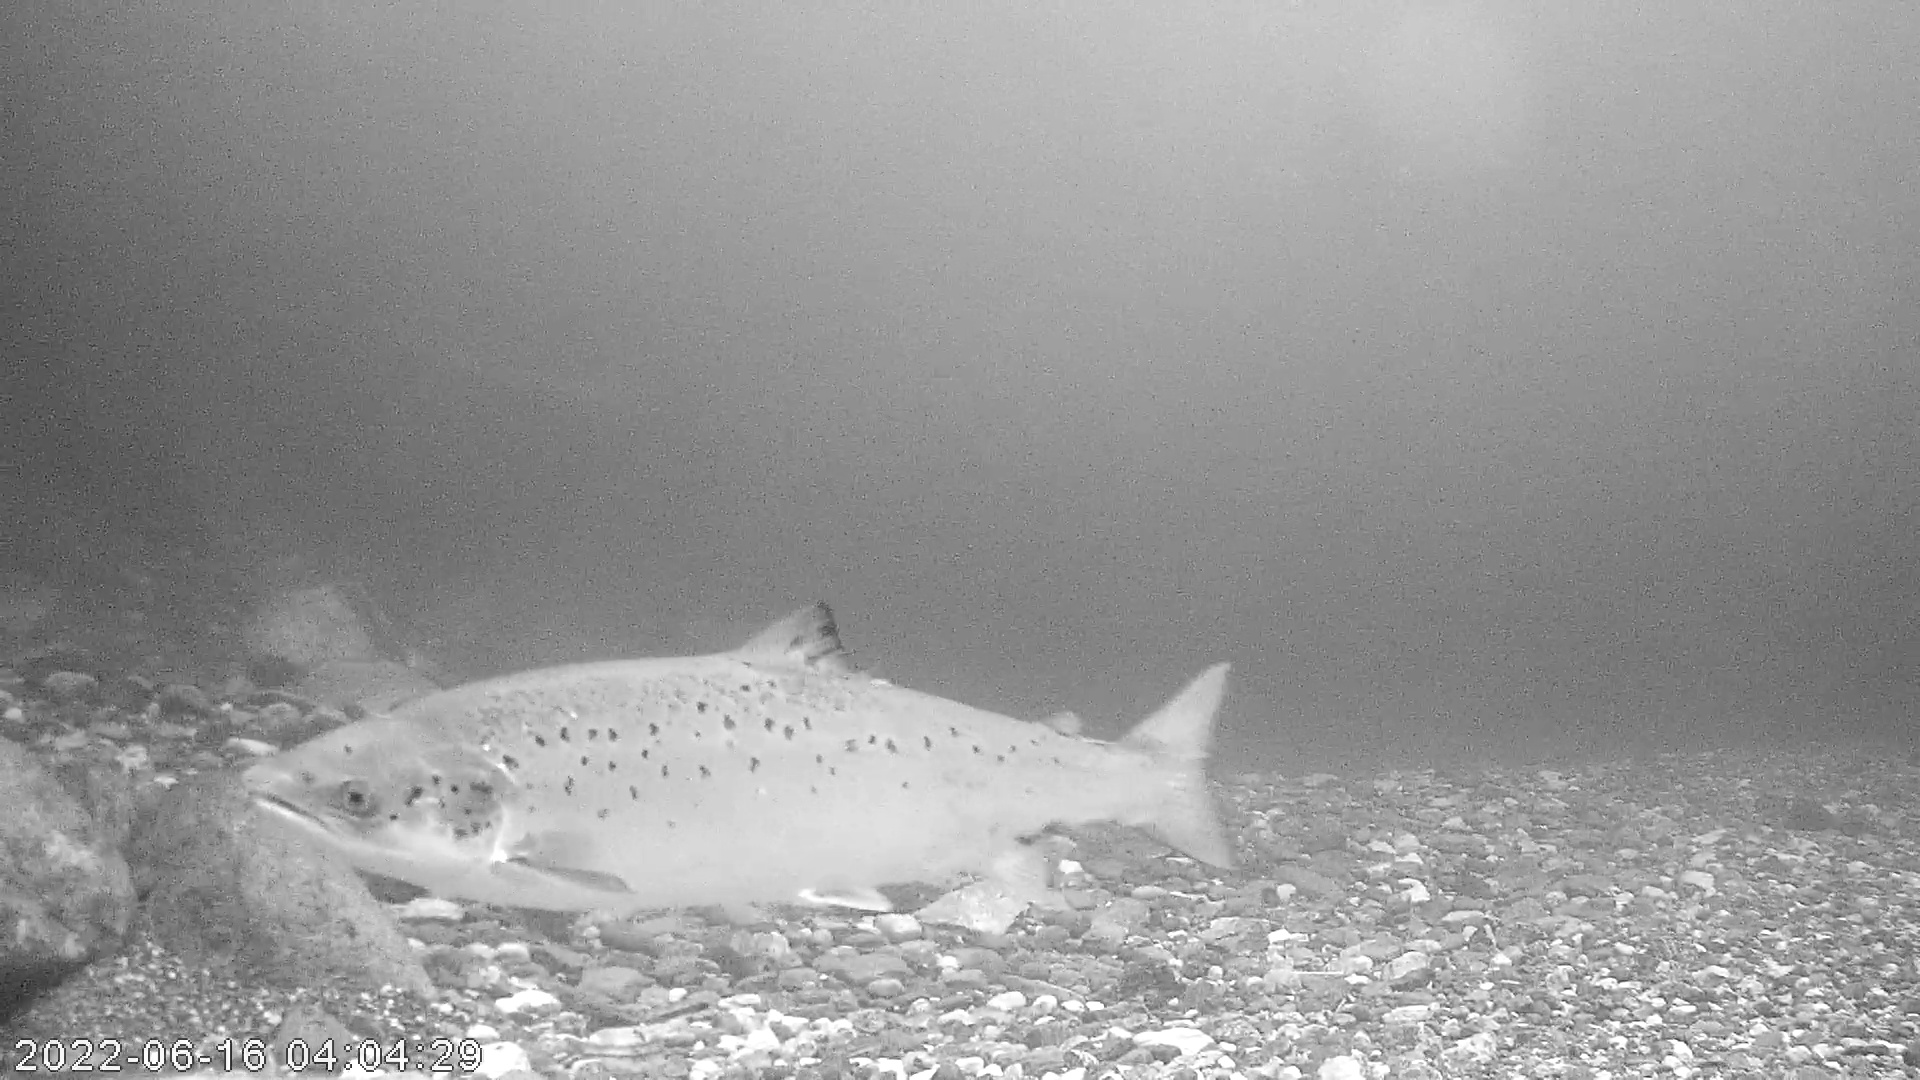salmon: (237, 597, 1238, 915)
